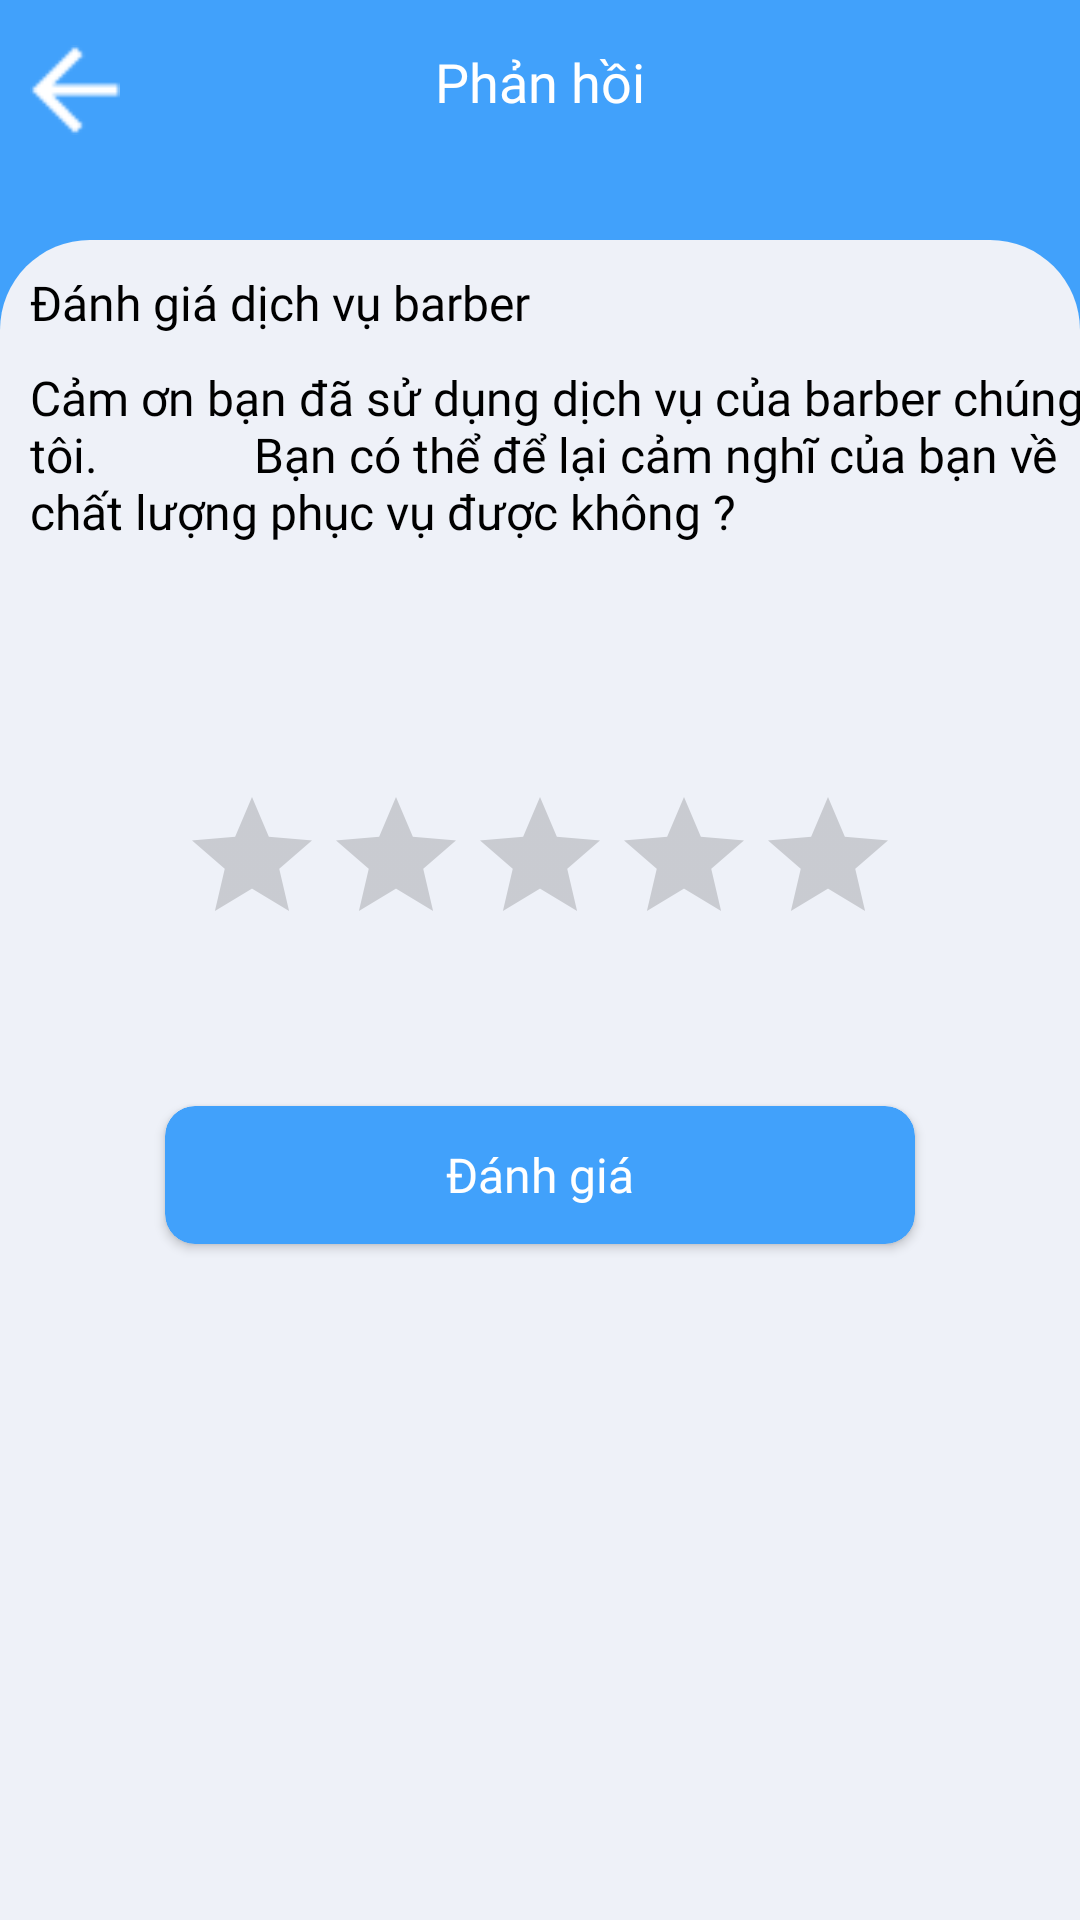

Screen size 1080*1920. Icon name, then its box in pixels as (x1, y1, x2, y2):
arrow back: (32, 47, 120, 133)
